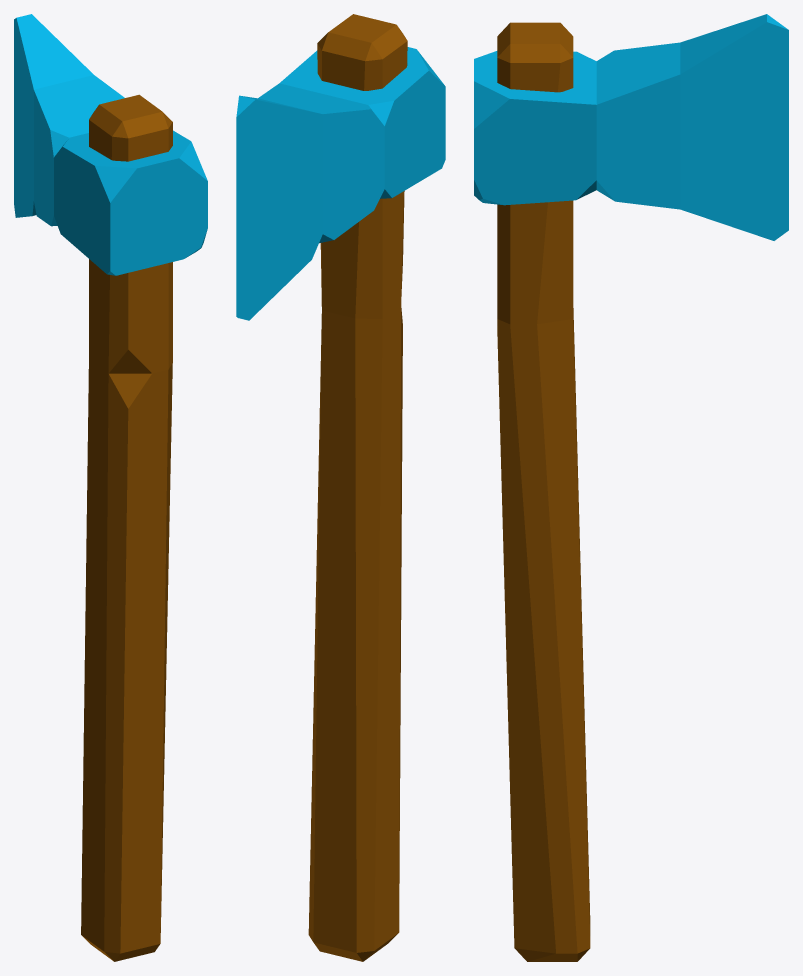
The model's file is Diamond Axe.glb.
3 views of the same model, side by side, from view 1: azimuth 30°, elevation 25°; view 2: azimuth 150°, elevation 25°; view 3: azimuth 270°, elevation 25° (orthographic). The views are drawn at different scales.
Visible parts, largest first — view 1: Cube, Cube.001; view 2: Cube, Cube.001; view 3: Cube, Cube.001.
Part boxes in pixels (x1=…): Cube: x1=81, y1=94, x2=172, y2=961; Cube.001: x1=14, y1=14, x2=207, y2=275; Cube: x1=308, y1=14, x2=407, y2=961; Cube.001: x1=236, y1=47, x2=445, y2=320; Cube: x1=497, y1=22, x2=590, y2=961; Cube.001: x1=474, y1=14, x2=788, y2=240.
Bounding box in the file's own units: 0.3762 × 3.17 × 0.9673.
